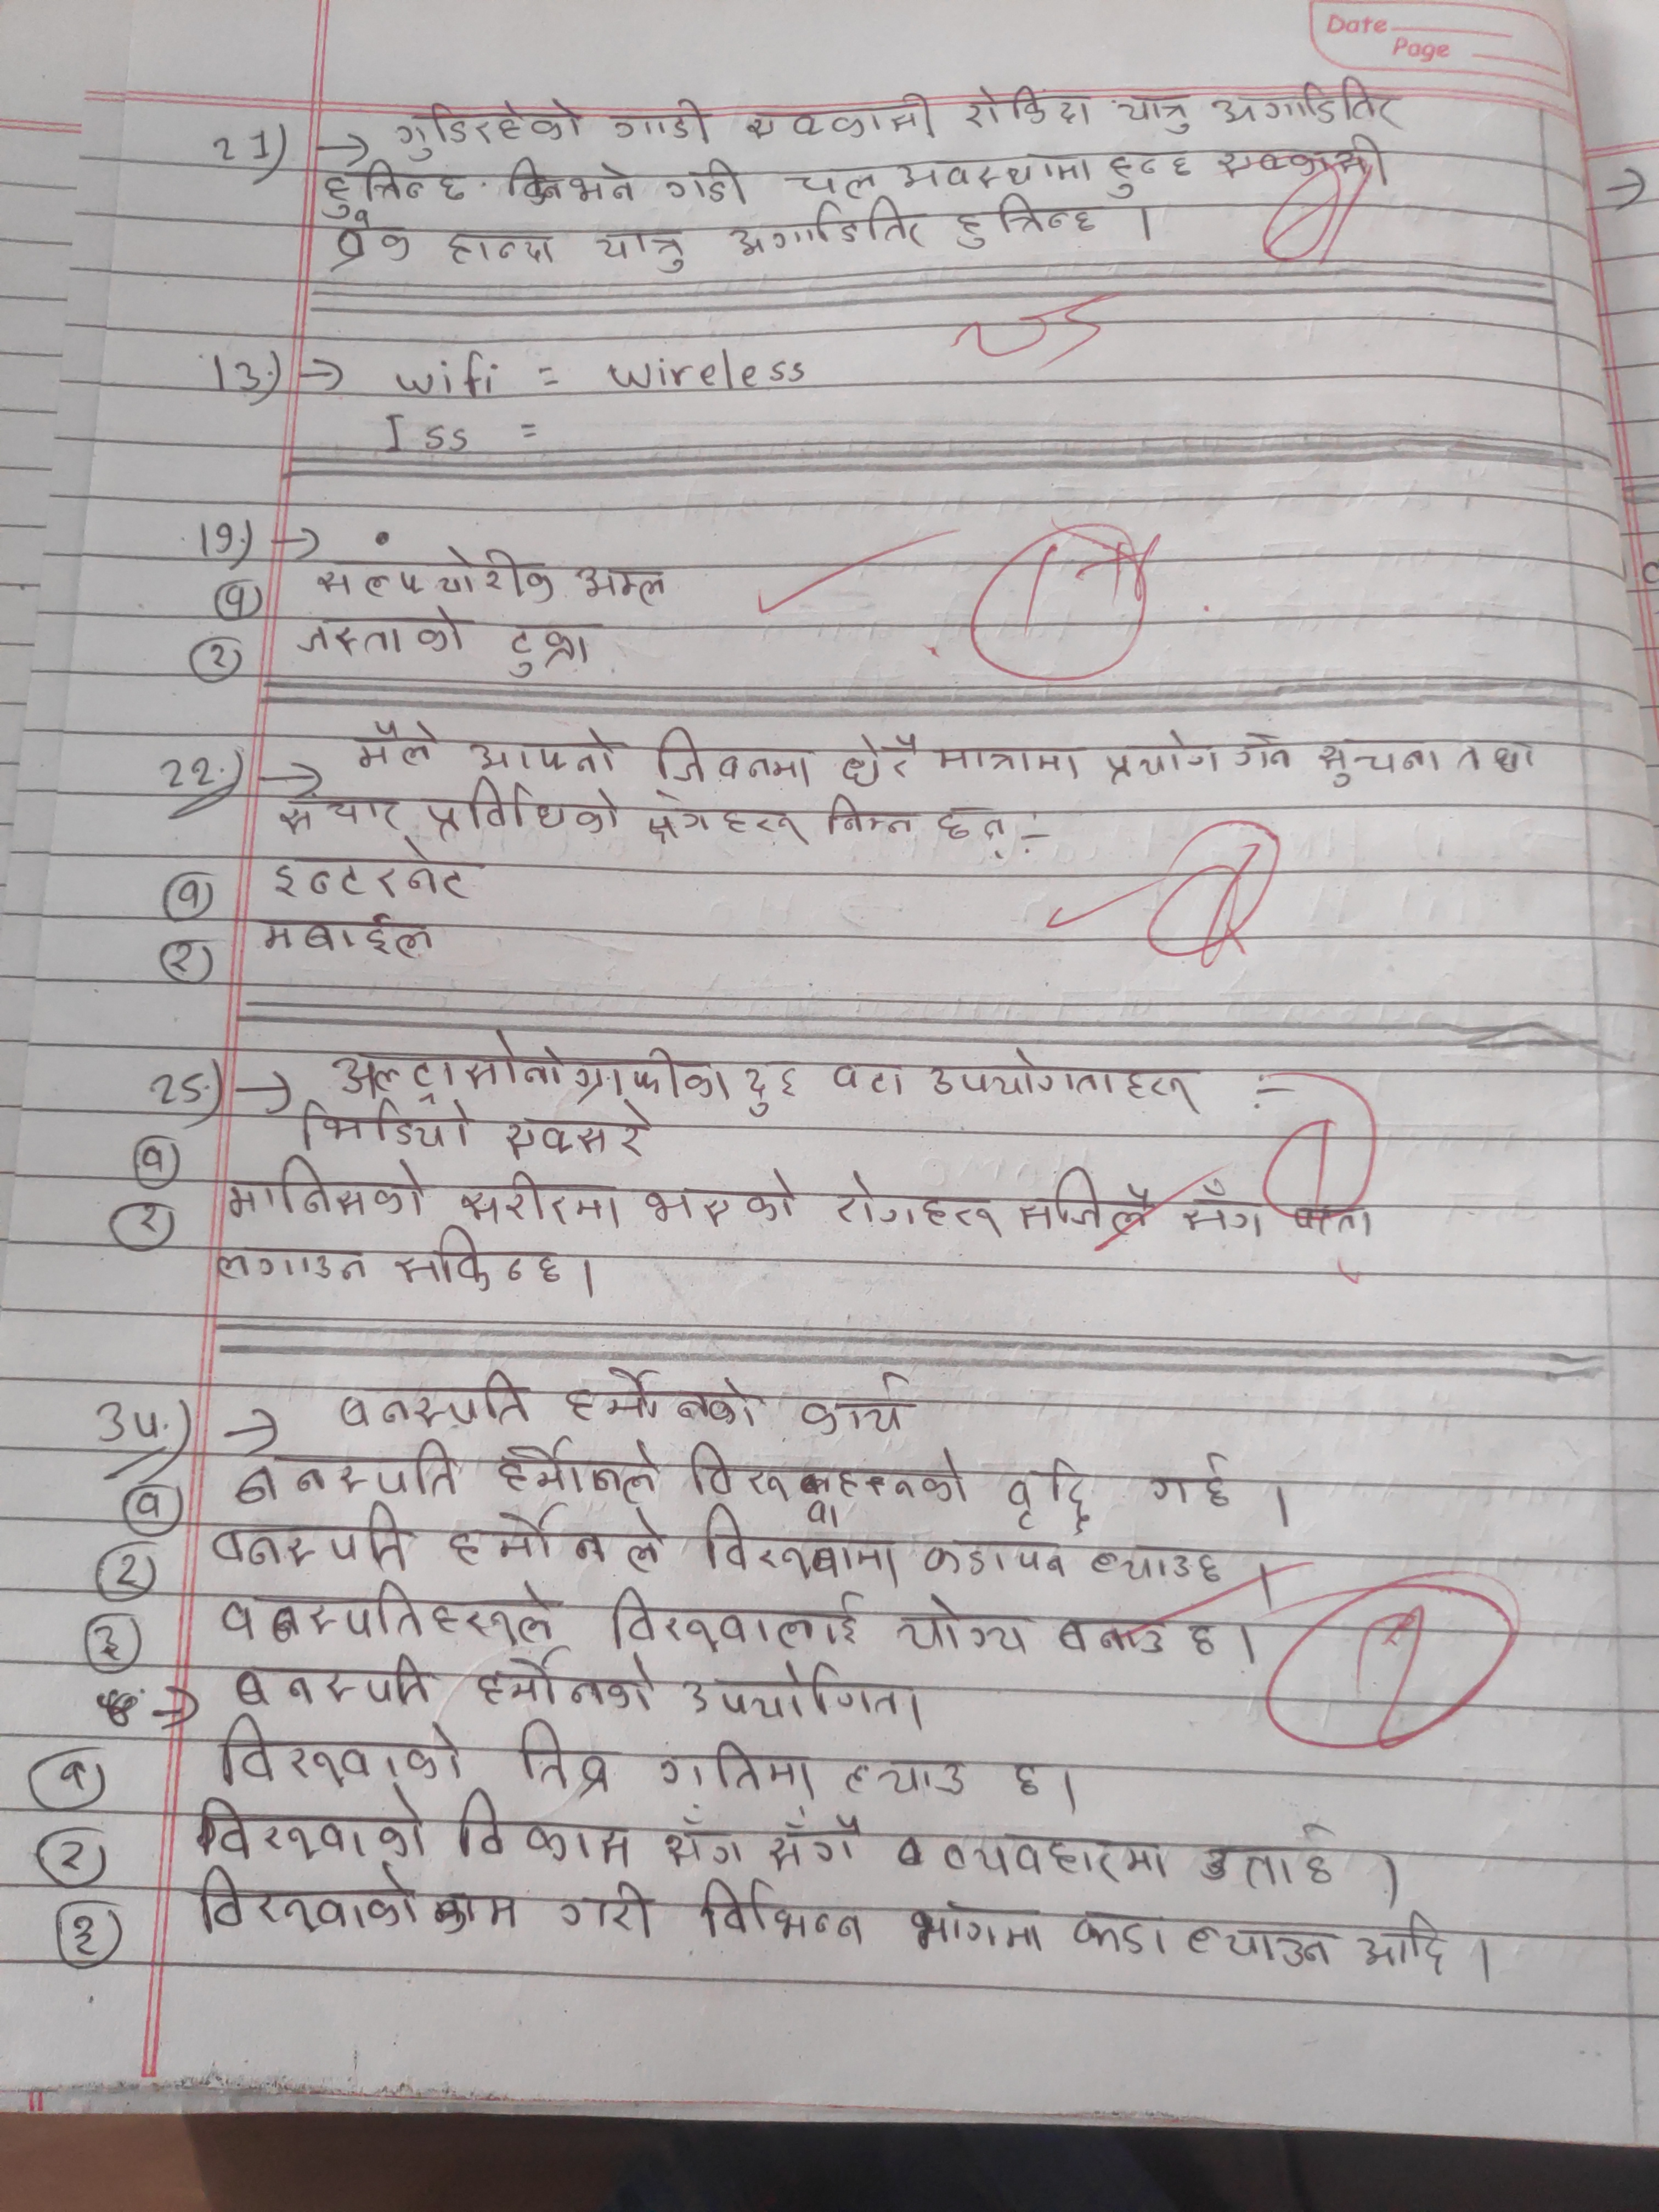text: (328, 1021, 735, 1101), (220, 1580, 558, 1649), (599, 1578, 870, 1658), (213, 1712, 469, 1792), (683, 1437, 967, 1507), (678, 1662, 927, 1731), (927, 1049, 1201, 1111), (697, 1507, 904, 1588), (193, 1796, 430, 1862), (202, 1501, 416, 1575), (230, 1439, 465, 1505), (315, 543, 559, 604), (188, 1867, 422, 1930), (941, 1827, 1171, 1888), (444, 1510, 666, 1573), (225, 1158, 429, 1226), (450, 1797, 633, 1871), (826, 1165, 1000, 1240), (340, 1369, 532, 1437), (425, 780, 626, 843), (563, 1367, 765, 1428), (282, 1097, 476, 1160), (232, 1653, 443, 1710), (1211, 75, 1415, 134), (390, 99, 587, 160), (697, 1879, 871, 1947), (727, 199, 929, 256), (392, 1226, 563, 1292), (491, 1437, 664, 1501), (270, 852, 483, 904), (251, 906, 437, 965), (474, 1651, 657, 1710), (652, 721, 812, 787), (291, 604, 474, 660), (1018, 1162, 1155, 1235), (1188, 1909, 1337, 1977), (460, 1170, 624, 1231), (1211, 134, 1399, 186), (641, 1163, 798, 1226), (504, 1097, 655, 1162), (737, 92, 936, 141), (659, 1738, 816, 1799), (511, 1714, 622, 1799), (641, 791, 805, 846), (1197, 1824, 1338, 1888), (465, 725, 627, 780), (906, 1895, 1049, 1958), (800, 1371, 922, 1442), (889, 146, 1094, 188), (955, 188, 1100, 247), (894, 1599, 1037, 1658), (321, 164, 467, 221), (920, 1533, 1075, 1587), (927, 737, 1091, 784), (1310, 730, 1443, 787), (1002, 1449, 1094, 1531), (1087, 1538, 1230, 1590), (209, 1238, 368, 1285), (498, 152, 638, 204), (1100, 725, 1222, 784), (1354, 1909, 1450, 1980), (840, 1750, 971, 1801), (964, 80, 1098, 129), (758, 1813, 868, 1872), (1068, 1902, 1171, 1963), (277, 787, 403, 836), (1056, 1608, 1169, 1662), (498, 624, 598, 683), (558, 1885, 657, 1944), (664, 1806, 749, 1872), (662, 155, 758, 212), (835, 730, 922, 792), (1178, 1174, 1265, 1237), (1150, 1449, 1239, 1510), (610, 98, 720, 146), (347, 716, 439, 773), (586, 226, 690, 273), (443, 230, 559, 272), (1101, 145, 1197, 195), (430, 1888, 523, 1940), (823, 794, 920, 843), (573, 559, 669, 606), (831, 1050, 910, 1104), (328, 221, 413, 270), (1453, 737, 1539, 784), (936, 799, 1012, 852), (739, 1059, 803, 1116), (1230, 725, 1297, 780), (1121, 89, 1197, 134), (784, 165, 878, 199), (1007, 1757, 1044, 1808), (1187, 1623, 1230, 1658)
